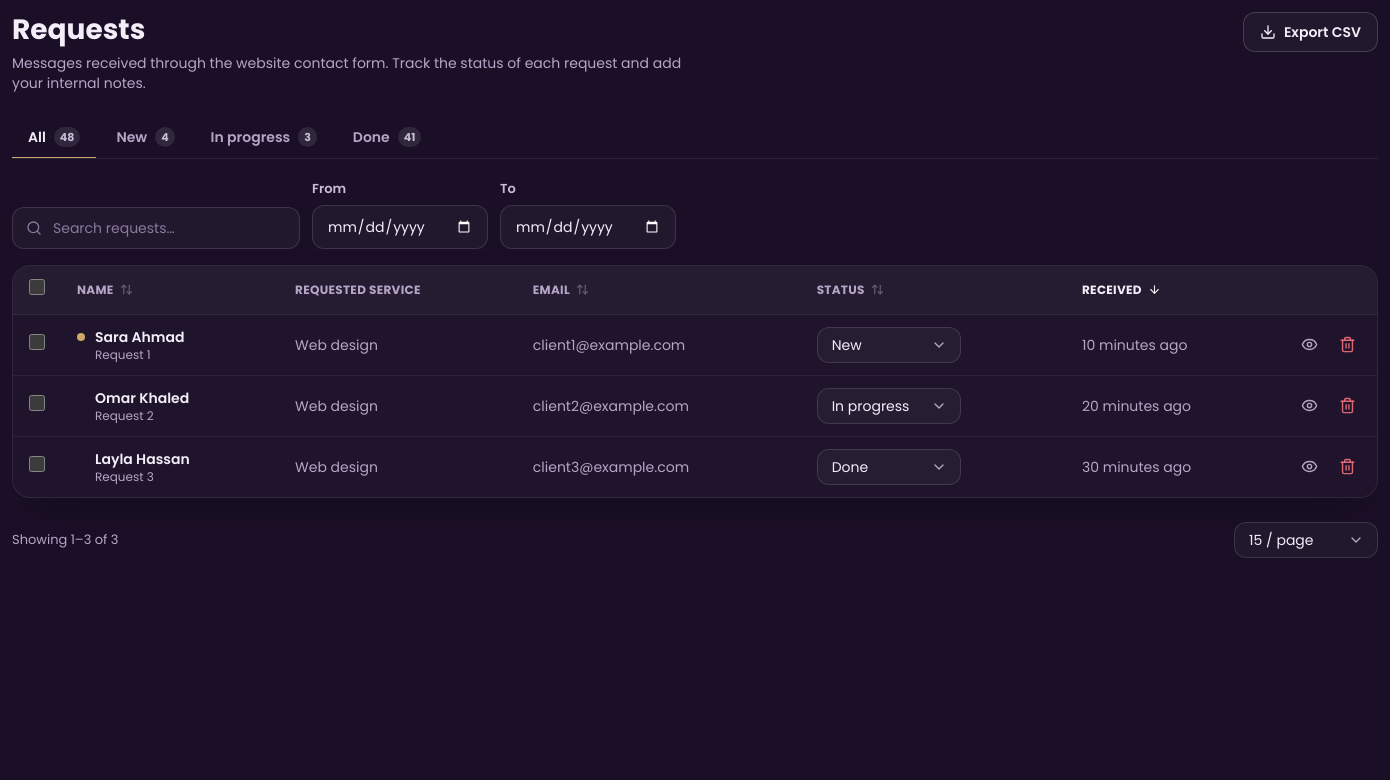
Test: RequestList › inline status › sends only the new status, toasts, and refreshes the counters
Expected: the link "Sara Ahmad" is shown, x1=95 y1=326 x2=184 y2=346
Select "Done" in the dropdown named "Status of Sara Ahmad": (889, 344) x1=817 y1=326 x2=961 y2=362
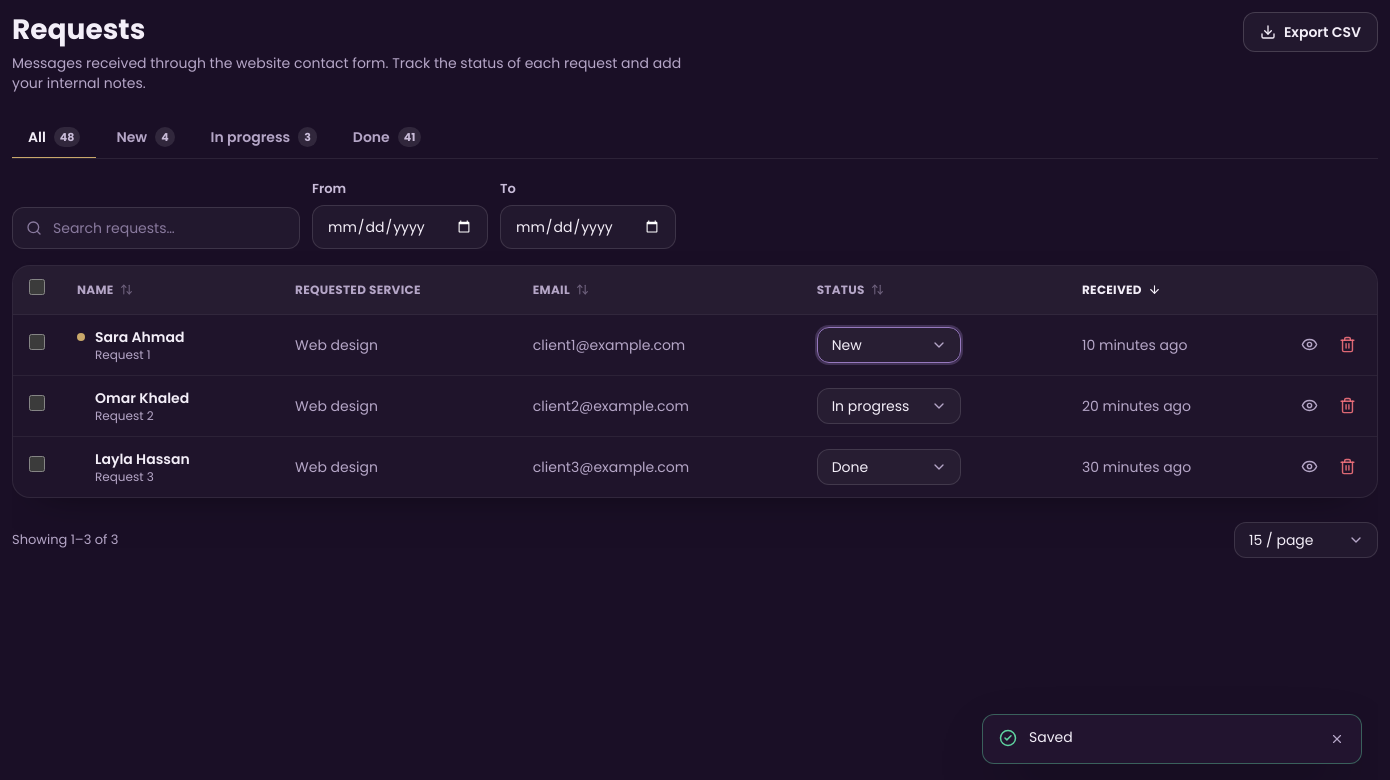
Now the text "Saved" is shown, box x1=1029 y1=727 x2=1073 y2=747
